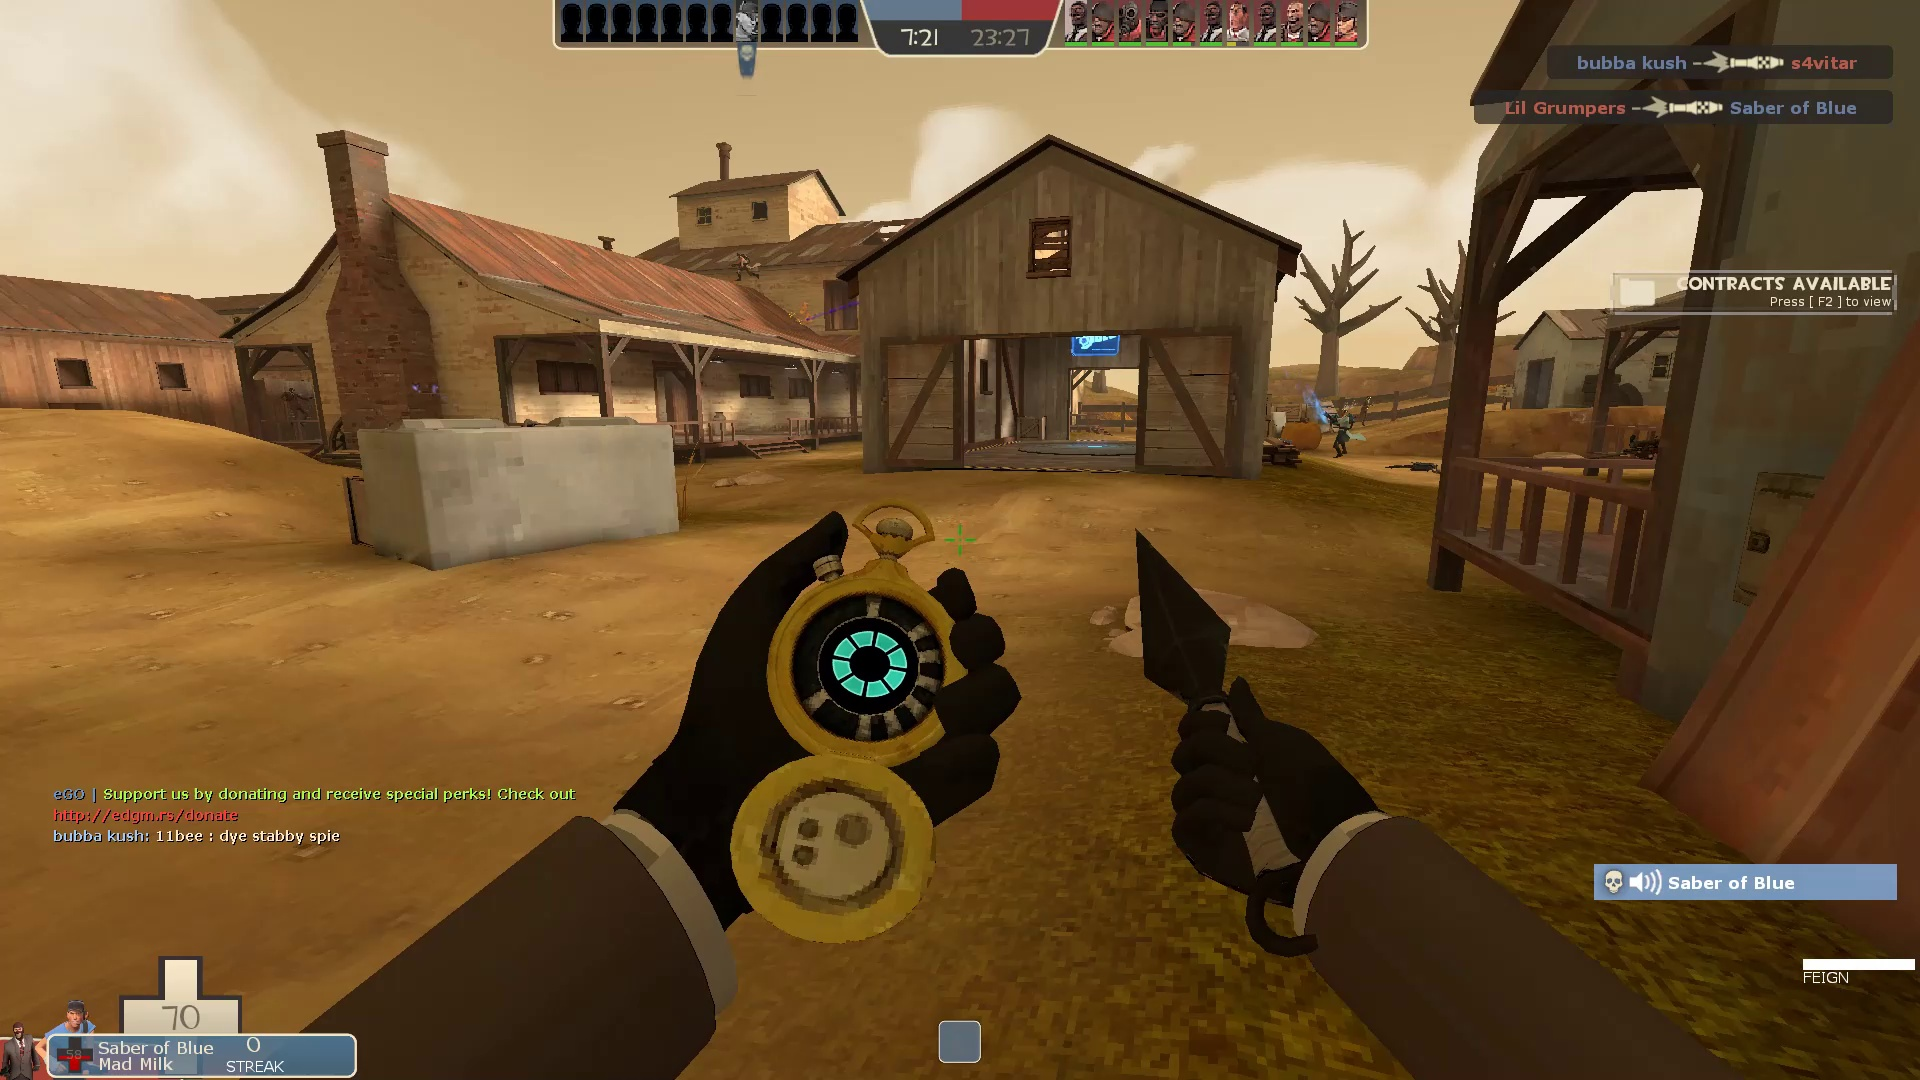blu_medic: (1323, 402, 1367, 465)
red_medic: (729, 251, 762, 284)
